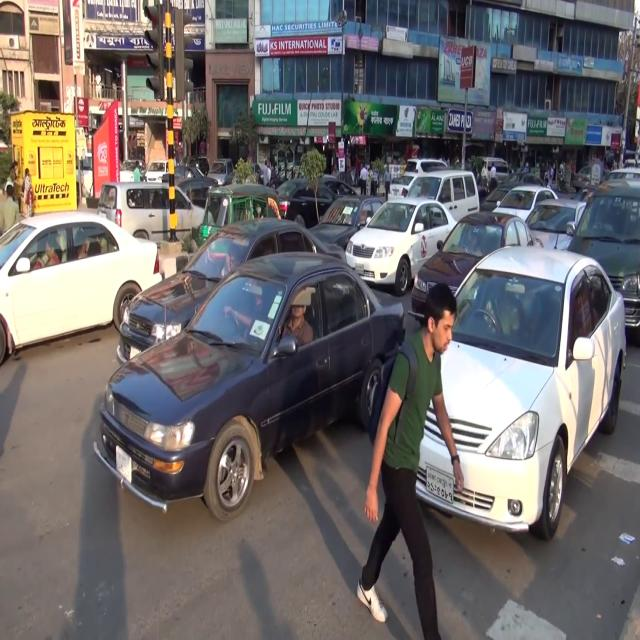black: (102, 255, 407, 501), (115, 219, 348, 363), (571, 180, 640, 349), (270, 176, 350, 223)
maroon: (413, 210, 533, 324)
silver: (100, 175, 211, 245)
white: (418, 248, 626, 554), (0, 208, 159, 349), (346, 200, 453, 286), (402, 172, 480, 222), (493, 186, 558, 220)
